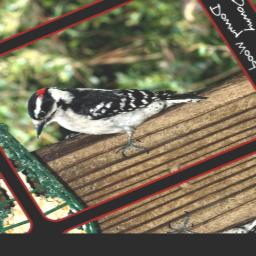Woodpecker: (12, 36, 223, 190)
